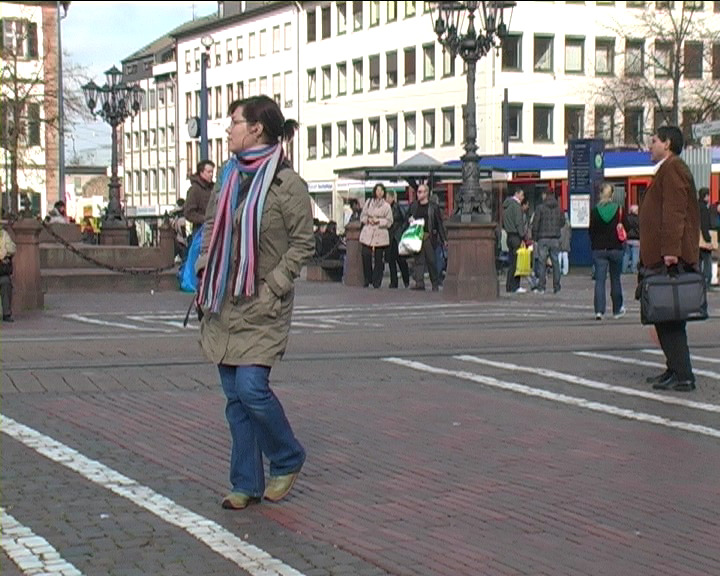deflection: (205, 97, 313, 244)
